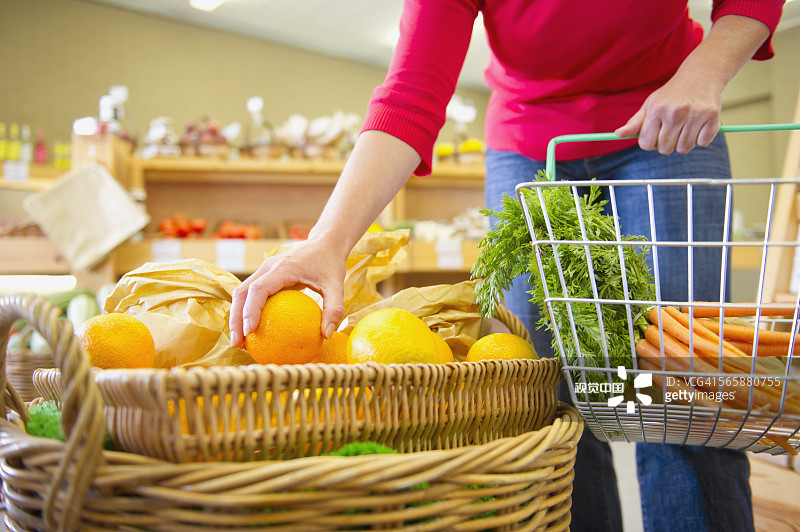no-phone: (222, 232, 363, 359), (611, 58, 745, 168)
